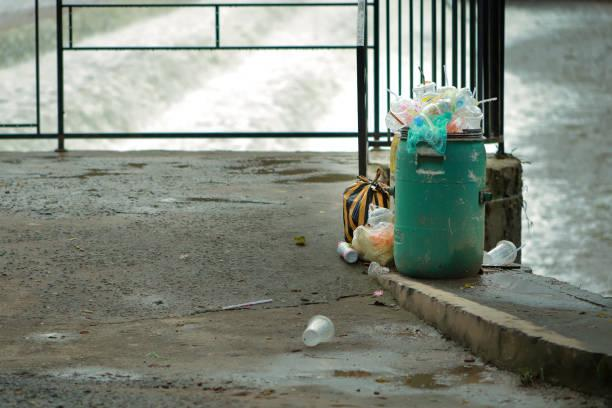trash: (322, 166, 410, 264), (378, 86, 491, 138), (297, 306, 331, 351), (482, 240, 523, 270), (389, 130, 405, 166)
trash_can_overflow: (340, 71, 509, 297)
